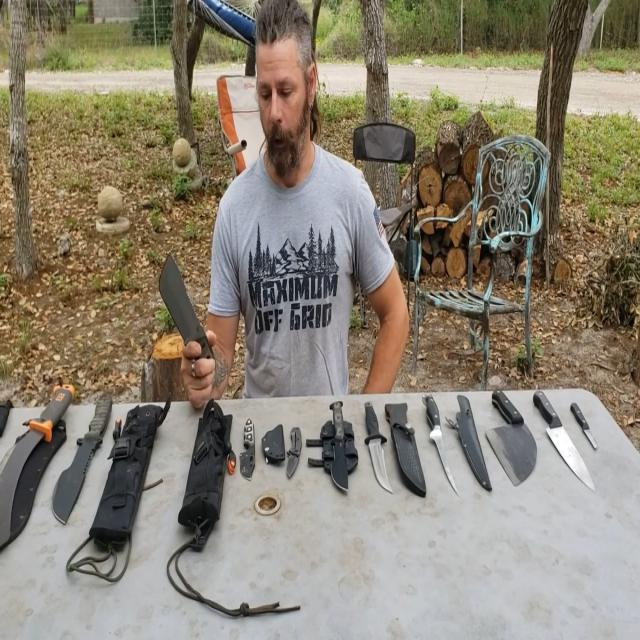knife: (0, 370, 75, 546), (46, 372, 116, 552), (155, 242, 226, 378), (526, 378, 595, 493), (474, 388, 534, 488), (420, 374, 466, 493), (360, 385, 400, 505), (321, 386, 359, 506), (569, 398, 613, 470), (278, 419, 308, 494), (239, 404, 260, 488)
